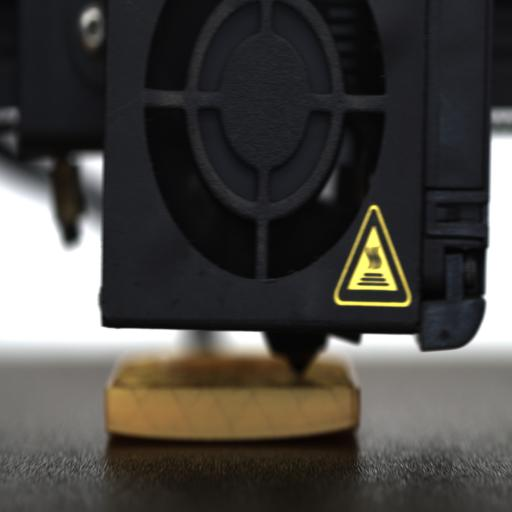warp: (308, 414, 364, 446), (103, 416, 161, 446)
